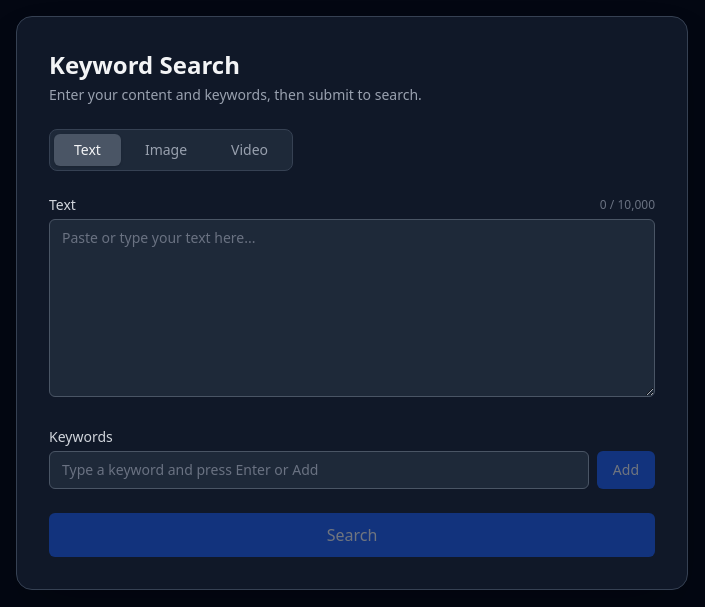
Test case: App › text tab › shows character count as text is typed
The width and height of the screenshot is (705, 607).
In the text box with placeholder "Paste or type your text here...": (352, 308) [49,219,655,397], type "hello"
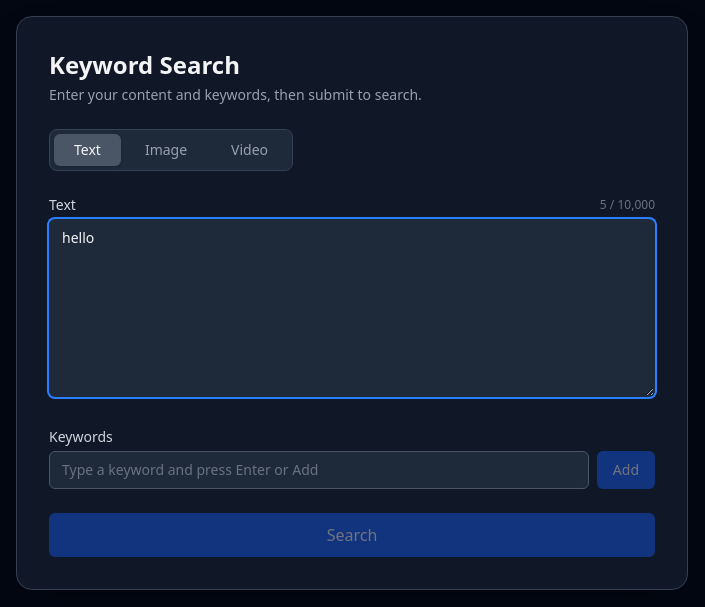
Check: the text "5 / 10,000" is shown, box [600,197,655,213]
